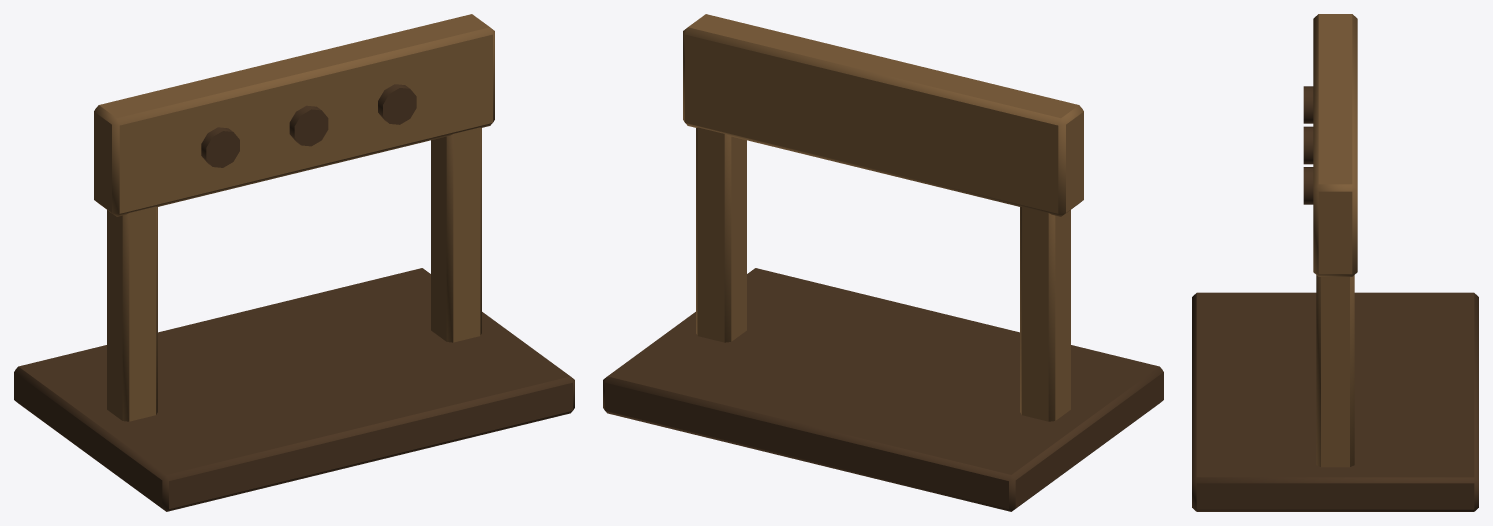
Rendered from stocks.glb.
The picture shows the model from 3 angles, left to right: view 1: azimuth 30°, elevation 25°; view 2: azimuth 150°, elevation 25°; view 3: azimuth 270°, elevation 25°; orthographic projection. The views are drawn at different scales.
Visible parts, largest first — view 1: building; view 2: building; view 3: building.
Part boxes in pixels (x1,y1,x2,y2): building: [14, 14, 574, 511]; building: [603, 14, 1163, 511]; building: [1192, 14, 1478, 511].
Size of the model in its own units: 1.4 by 1.11 by 0.9.
